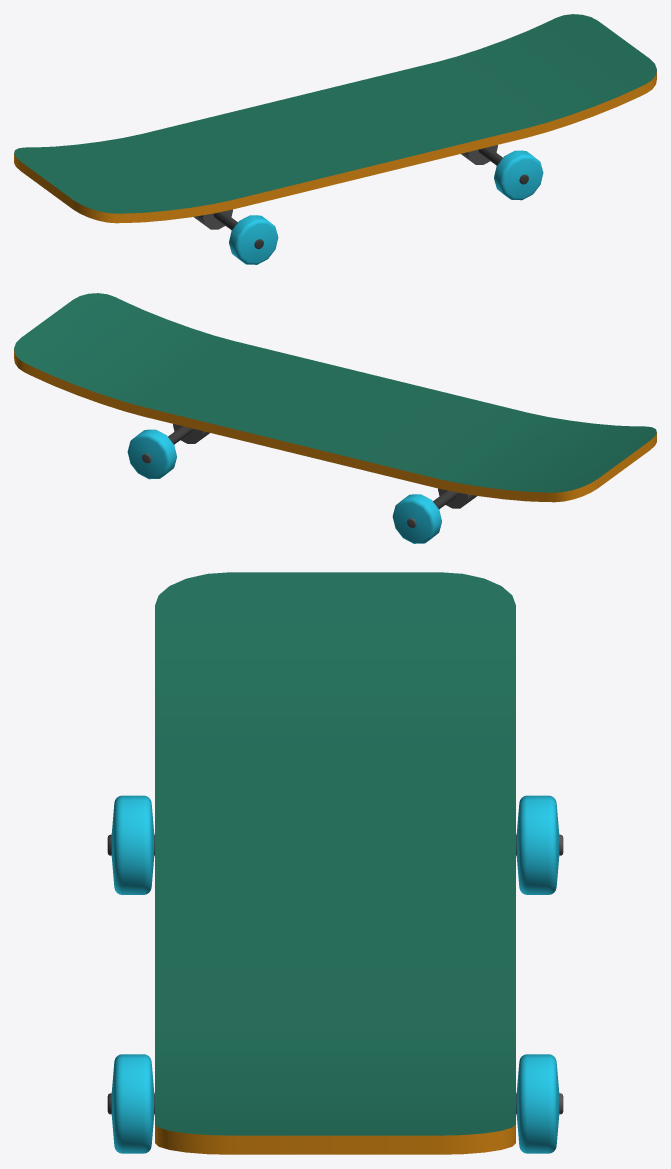
File: Kaykay.fbx
3 renders of one model, top to bottom at view 1: azimuth 30°, elevation 25°; view 2: azimuth 150°, elevation 25°; view 3: azimuth 270°, elevation 25°, orthographic. The views are drawn at different scales.
Visible parts, largest first — view 1: Cylinder, Cylinder.001, Cylinder.002; view 2: Cylinder, Cylinder.001, Cylinder.002; view 3: Cylinder, Cylinder.001, Cylinder.002.
Boxes of the visible parts, box(x1,y1,x2,y2) form: Cylinder: box(14, 14, 656, 229); Cylinder.001: box(213, 211, 278, 264); Cylinder.002: box(478, 147, 543, 200); Cylinder: box(14, 293, 656, 508); Cylinder.001: box(392, 490, 457, 543); Cylinder.002: box(127, 426, 192, 479); Cylinder: box(155, 572, 515, 1154); Cylinder.001: box(107, 795, 563, 894); Cylinder.002: box(107, 1054, 563, 1153).
Bounding box in the file's own units: 177 × 24.28 × 60.39.
